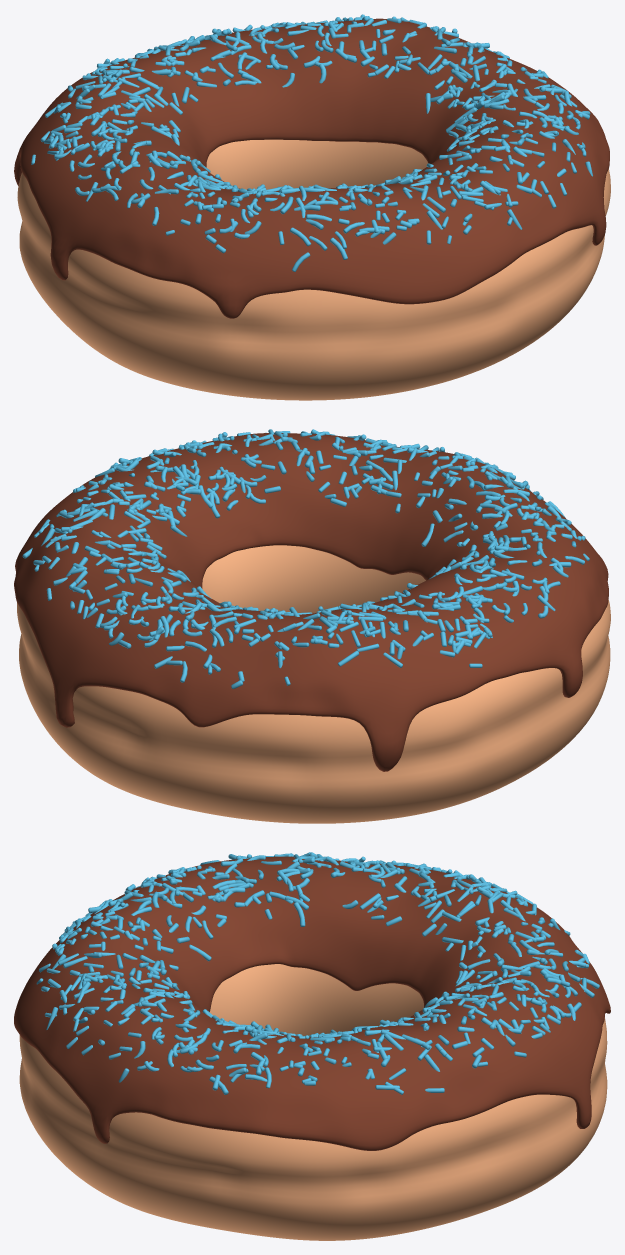
The model's file is donut.fbx.
The picture shows the model from 3 angles, top to bottom: view 1: azimuth 30°, elevation 25°; view 2: azimuth 150°, elevation 25°; view 3: azimuth 270°, elevation 25°; orthographic projection.
Visible parts, largest first — view 1: Topping, Donut; view 2: Topping, Donut; view 3: Topping, Donut.
Part boxes in pixels (box(x1,y1,x2,y2)): Topping: box(14, 18, 609, 318); Donut: box(17, 139, 610, 400); Topping: box(14, 433, 608, 771); Donut: box(17, 545, 610, 823); Topping: box(14, 856, 610, 1150); Donut: box(19, 964, 607, 1240).
Size of the model in its own units: 14.96 by 5.63 by 14.58.
